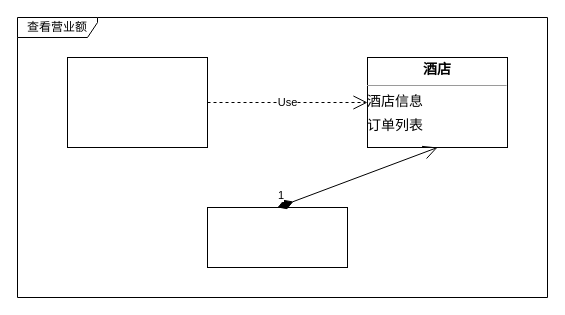
This 565x315 diagram has some shape labels left out. Here are the shapes that lost their labels. From the top down, the box of each, then its label:
(66, 56, 208, 148): 酒店工作人员 工作酒店 个人信息
(206, 206, 348, 268): 订单 订单信息
